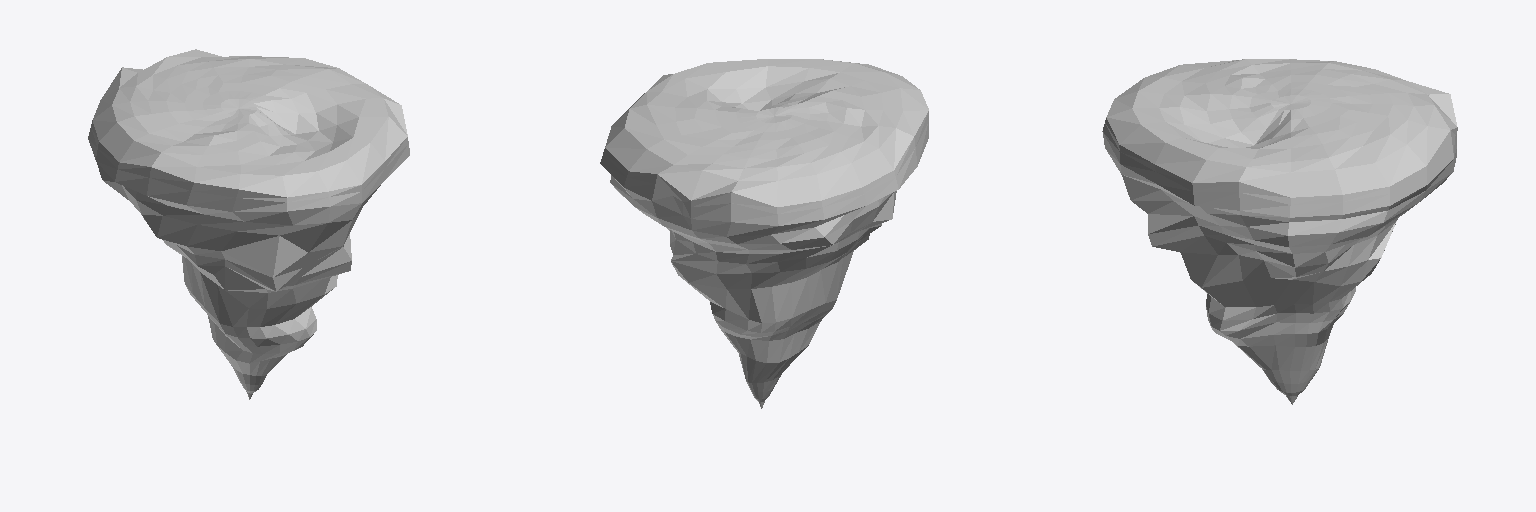
The model's file is FlatIIslandWPool.obj.
3 renders of one model, left to right at view 1: azimuth 30°, elevation 25°; view 2: azimuth 150°, elevation 25°; view 3: azimuth 270°, elevation 25°, orthographic.
Parts seen in each view (by area): view 1: IslandLowP1; view 2: IslandLowP1; view 3: IslandLowP1.
Boxes of the visible parts, x1=… form: IslandLowP1: x1=88, y1=49, x2=409, y2=399; IslandLowP1: x1=600, y1=59, x2=928, y2=408; IslandLowP1: x1=1102, y1=59, x2=1457, y2=404.
Size of the model in its own units: 50.18 by 52.52 by 56.73.